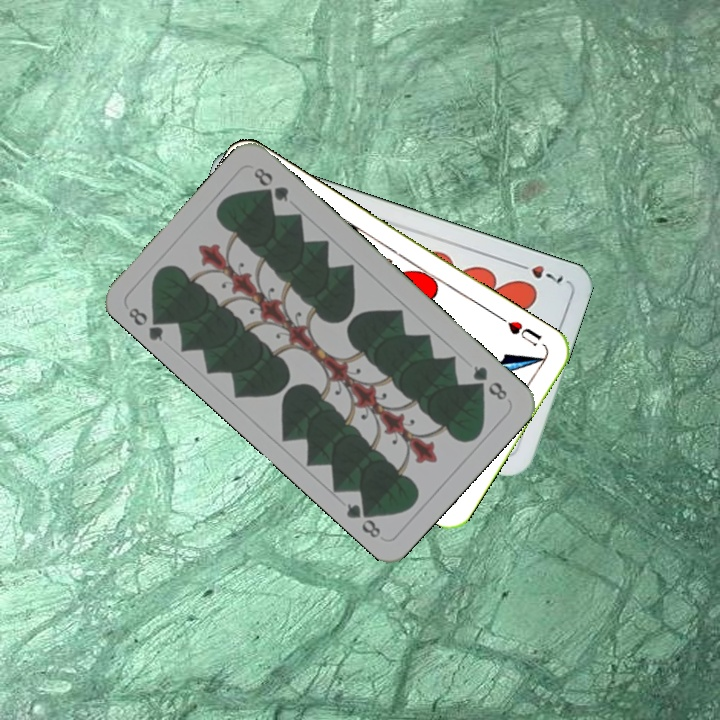G8: (124, 303, 169, 345), (468, 361, 510, 403)
H7: (510, 258, 566, 286)
HU: (495, 312, 545, 349)
